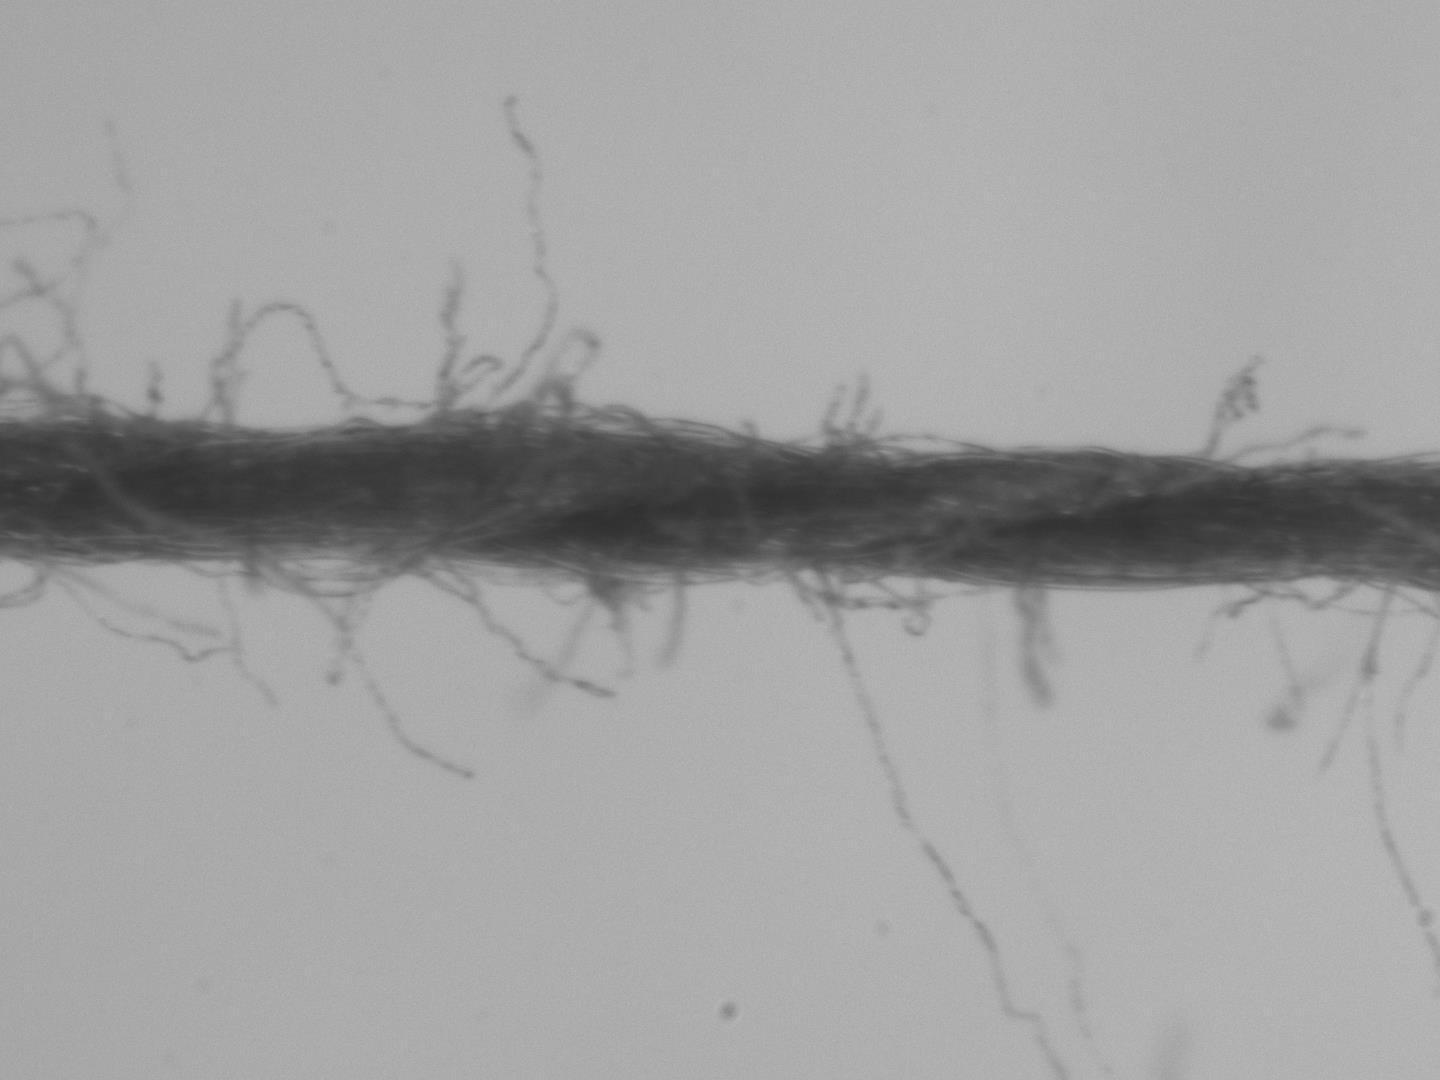loop_fiber: (192, 292, 465, 431)
protruding_fiber: (807, 566, 1082, 1079), (472, 87, 560, 414), (1219, 421, 1379, 466)
